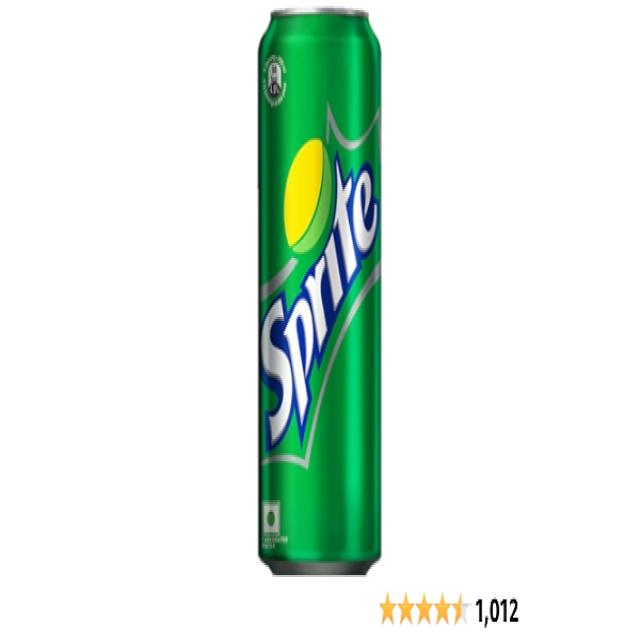sprite: (256, 5, 391, 575)
